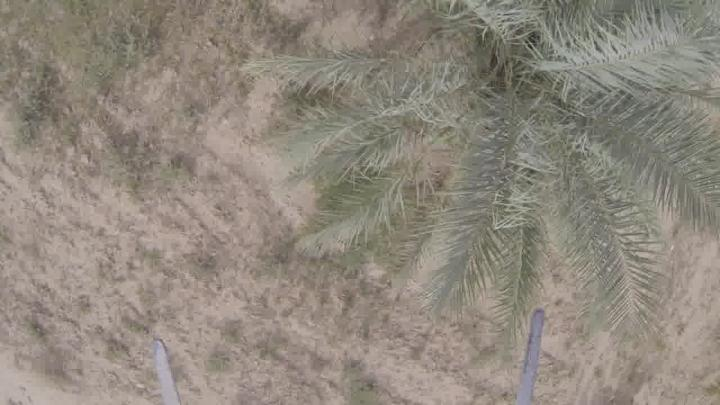Date-Palm-Crown: (354, 0, 680, 258)
